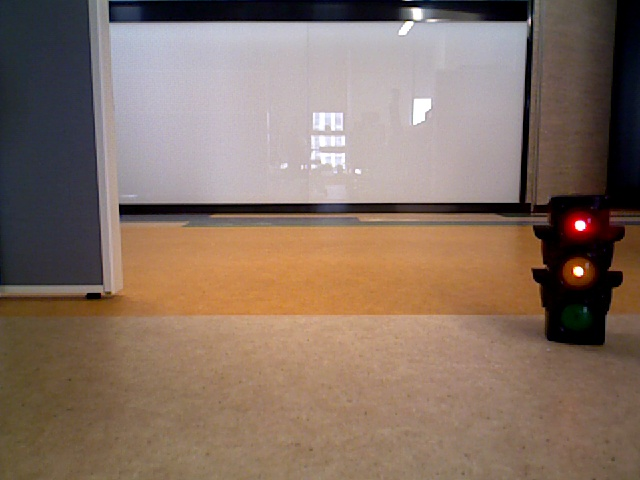red: (549, 202, 599, 339)
